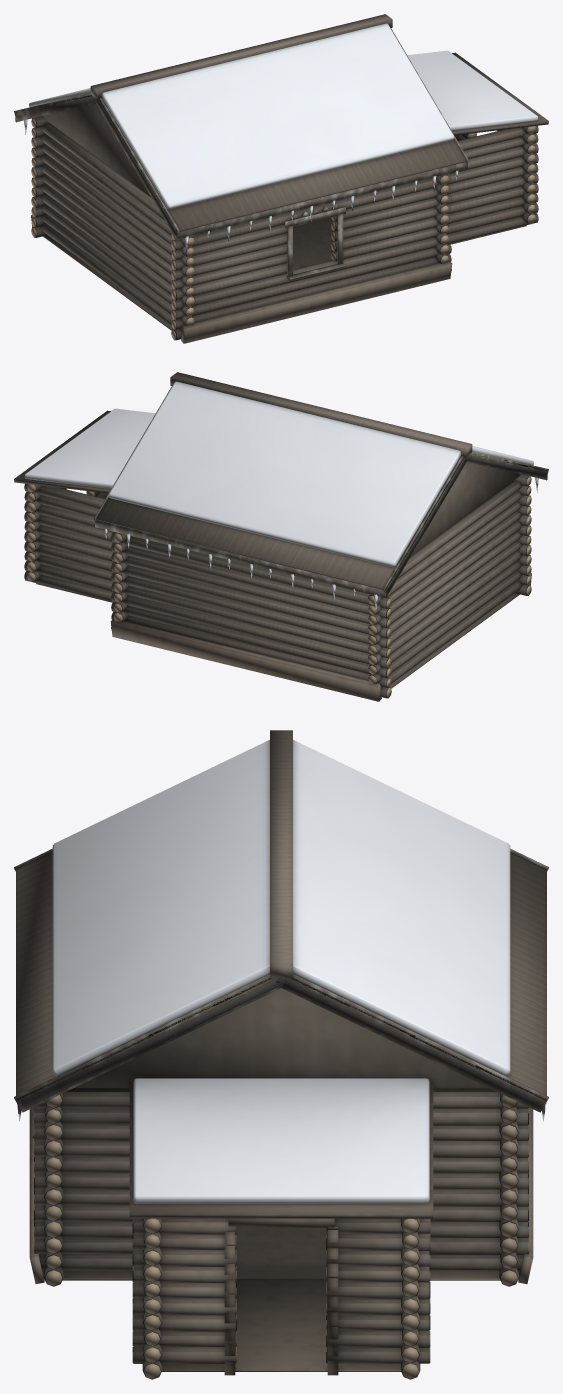
Rendered from izba.glb.
The picture shows the model from 3 angles, top to bottom: view 1: azimuth 30°, elevation 25°; view 2: azimuth 150°, elevation 25°; view 3: azimuth 270°, elevation 25°; orthographic projection. The views are drawn at different scales.
Visible parts, largest first — view 1: izba; view 2: izba; view 3: izba.
Boxes of the visible parts, x1,y1,x2,y2 form: izba: (14,14,548,343); izba: (14,372,548,701); izba: (14,730,548,1379).
Size of the model in its own units: 10.1 by 4.81 by 7.05.
1 material, 1 textured.
